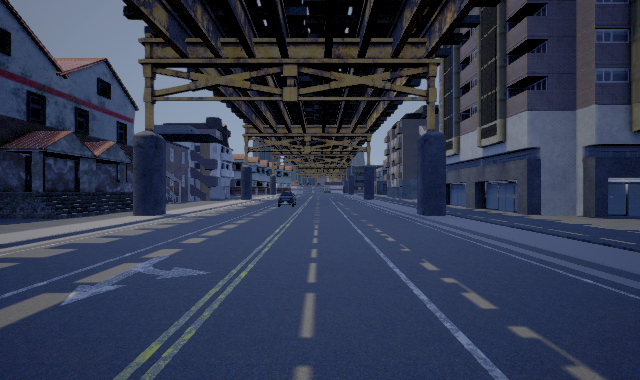vehicle: (276, 189, 298, 207)
